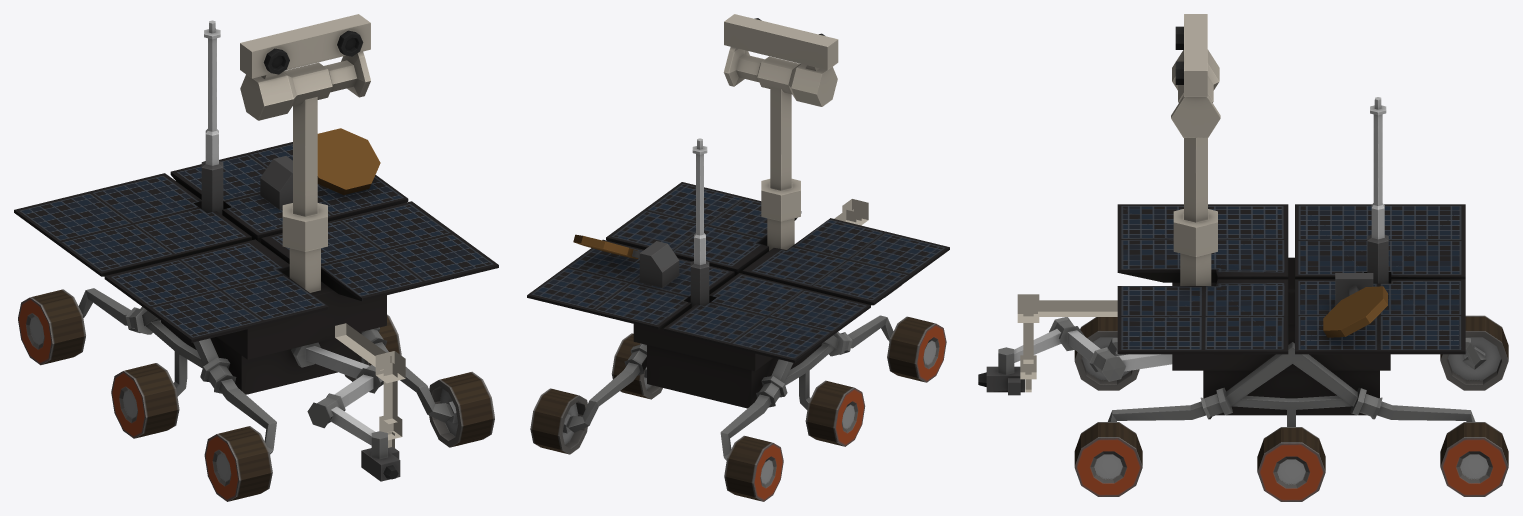
File: rover.glb
The picture shows the model from 3 angles, left to right: view 1: azimuth 30°, elevation 25°; view 2: azimuth 150°, elevation 25°; view 3: azimuth 270°, elevation 25°; orthographic projection. The views are drawn at different scales.
Parts seen in each view (by area): view 1: Chassis, Wheel_ML, Wheel_FL, Wheel_RL, Wheel_FR, DrillArm, Wheel_MR; view 2: Chassis, Wheel_ML, Wheel_FL, Wheel_RL, Wheel_RR, Wheel_MR, DrillArm; view 3: Chassis, Wheel_MR, Wheel_FR, Wheel_RR, Wheel_RL, DrillArm, Wheel_FL.
Part boxes in pixels (x1=…): Chassis: x1=14, y1=14, x2=498, y2=481; Wheel_ML: x1=111, y1=363, x2=179, y2=438; Wheel_FL: x1=204, y1=426, x2=272, y2=501; Wheel_RL: x1=18, y1=289, x2=85, y2=365; Wheel_FR: x1=429, y1=371, x2=494, y2=447; DrillArm: x1=335, y1=323, x2=405, y2=447; Wheel_MR: x1=345, y1=314, x2=401, y2=381; Chassis: x1=527, y1=14, x2=949, y2=460; Wheel_ML: x1=805, y1=380, x2=865, y2=446; Wheel_FL: x1=887, y1=316, x2=946, y2=382; Wheel_RL: x1=724, y1=435, x2=783, y2=501; Wheel_RR: x1=530, y1=388, x2=587, y2=454; Wheel_MR: x1=611, y1=333, x2=662, y2=399; DrillArm: x1=834, y1=199, x2=868, y2=225; Chassis: x1=978, y1=14, x2=1486, y2=426; Wheel_MR: x1=1257, y1=427, x2=1325, y2=501; Wheel_FR: x1=1074, y1=422, x2=1142, y2=496; Wheel_RR: x1=1440, y1=422, x2=1508, y2=496; Wheel_RL: x1=1440, y1=315, x2=1508, y2=390; DrillArm: x1=1017, y1=294, x2=1117, y2=392; Wheel_FL: x1=1074, y1=317, x2=1139, y2=390.
Bounding box in the file's own units: 5.48 × 6.93 × 8.37.
1 material, 1 textured.
